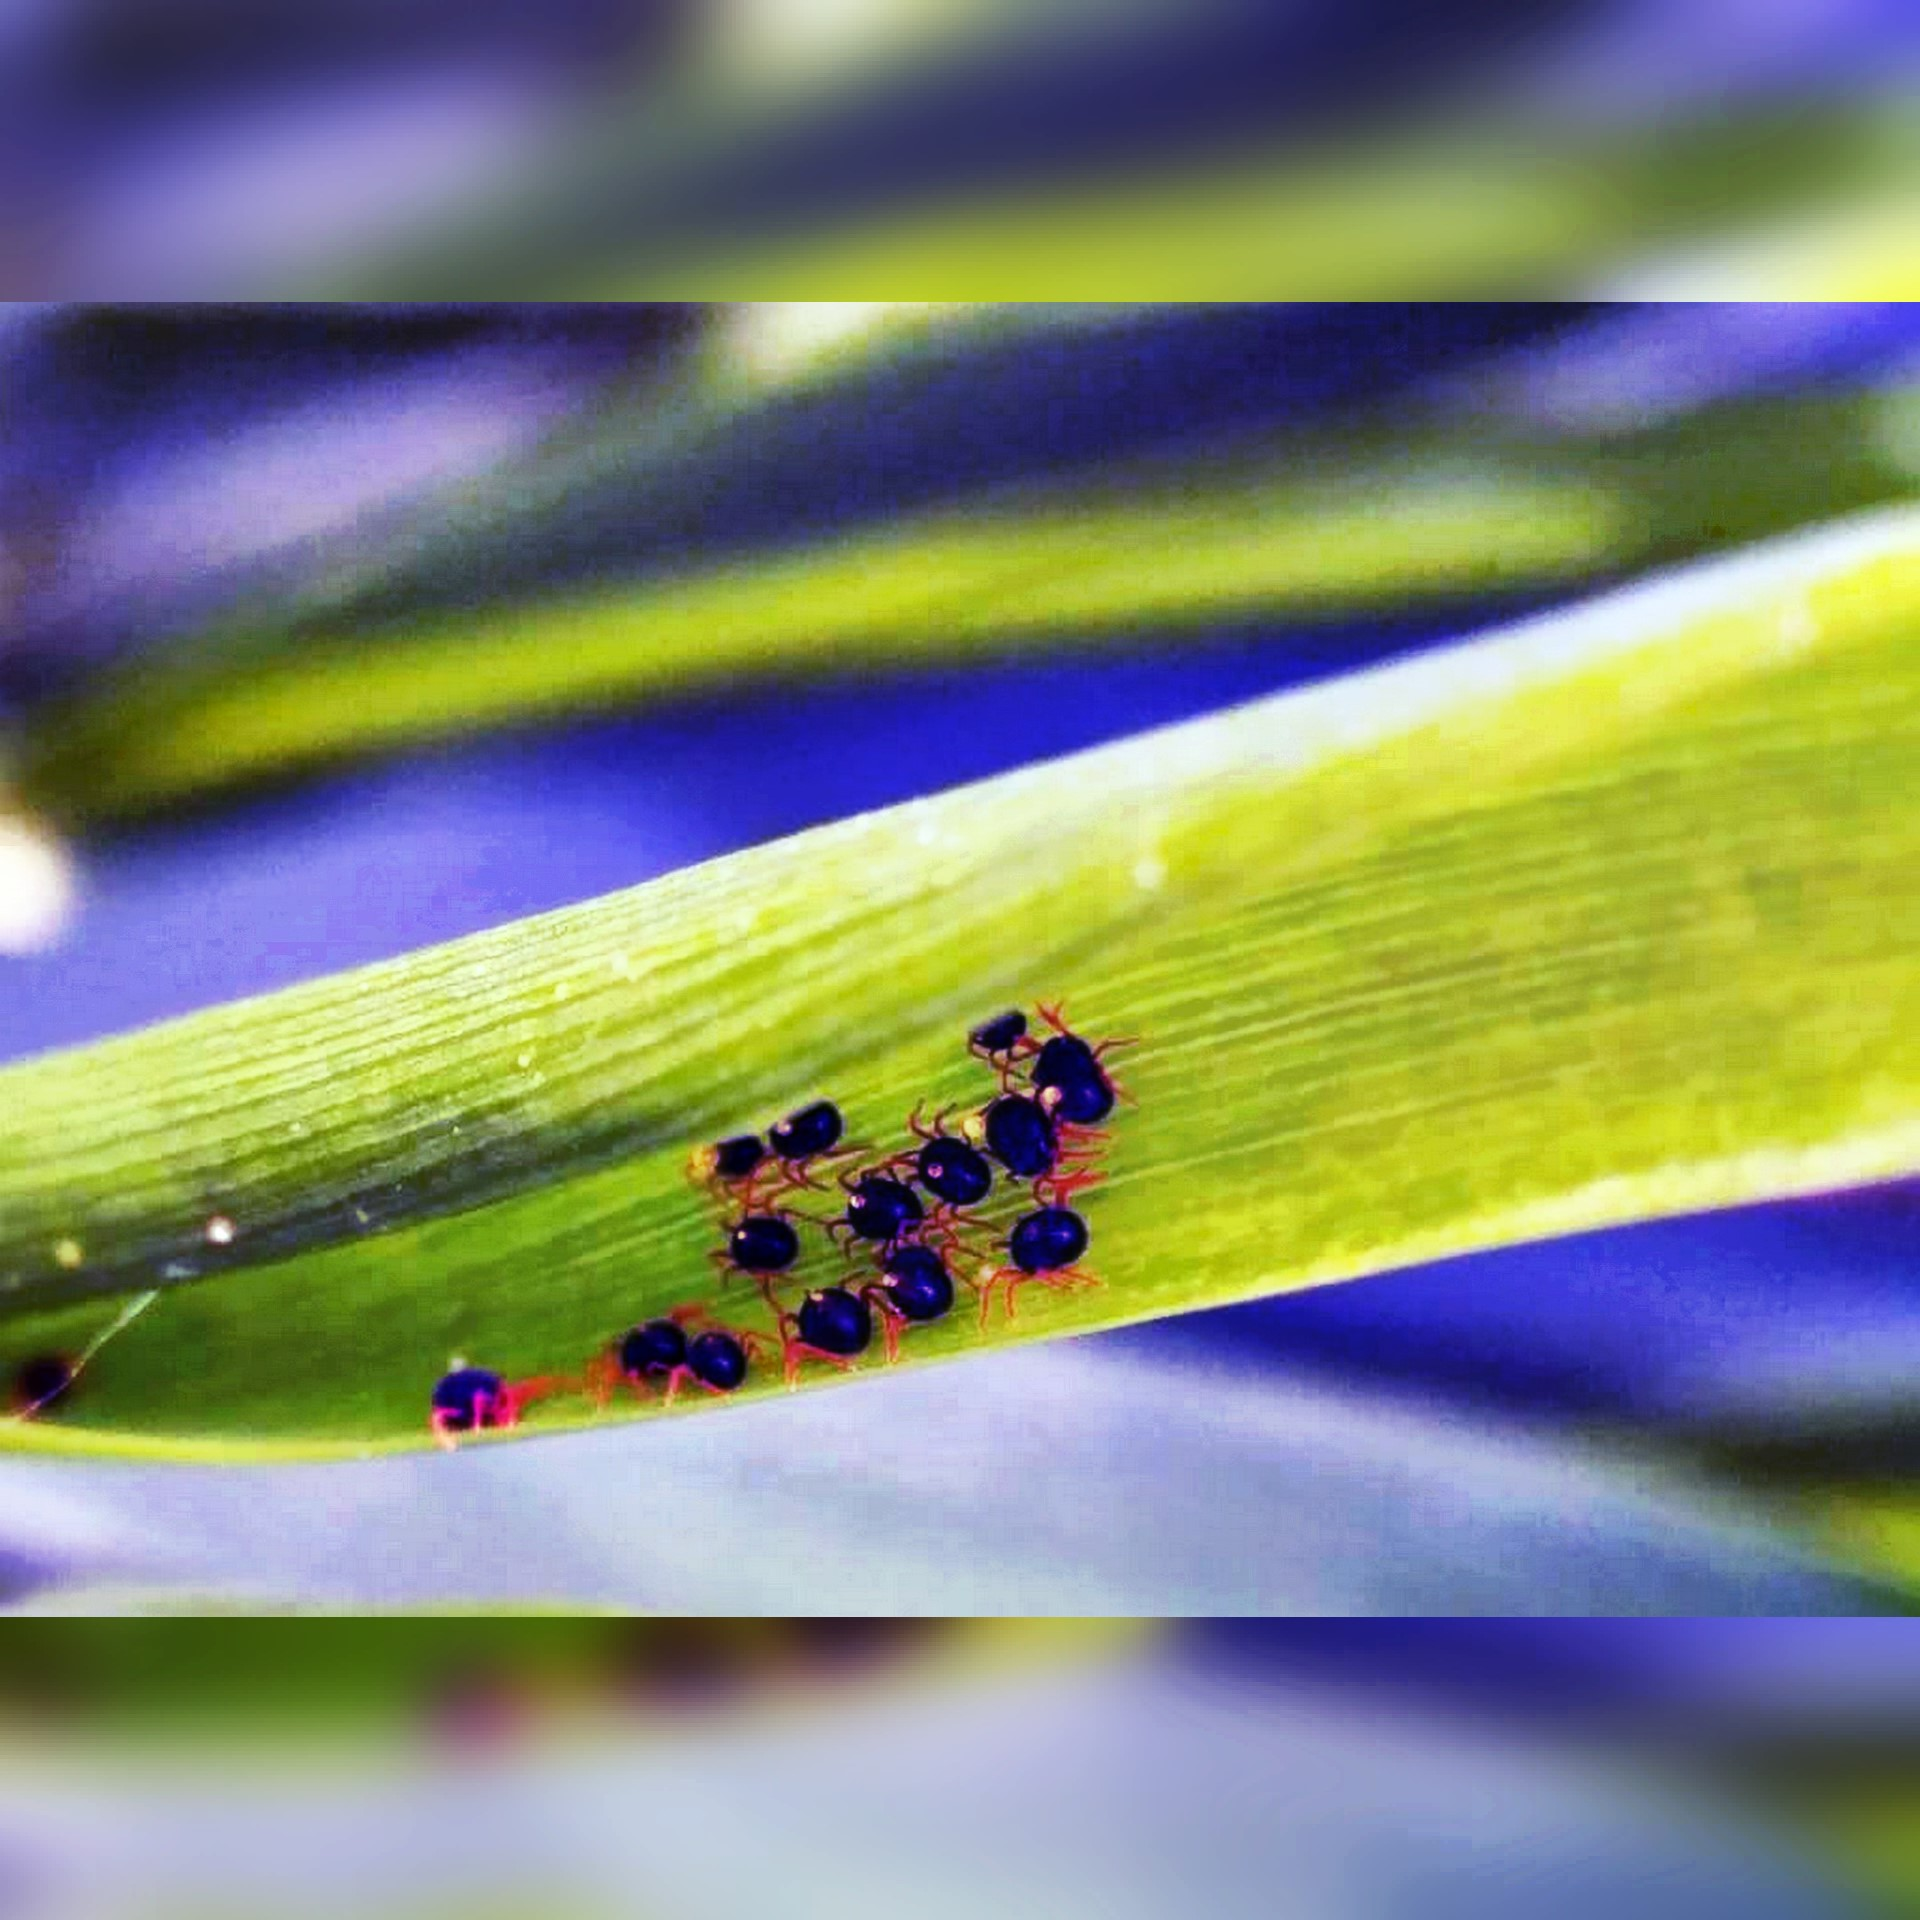Wheat Red Spider: (717, 1000, 1203, 1398)
